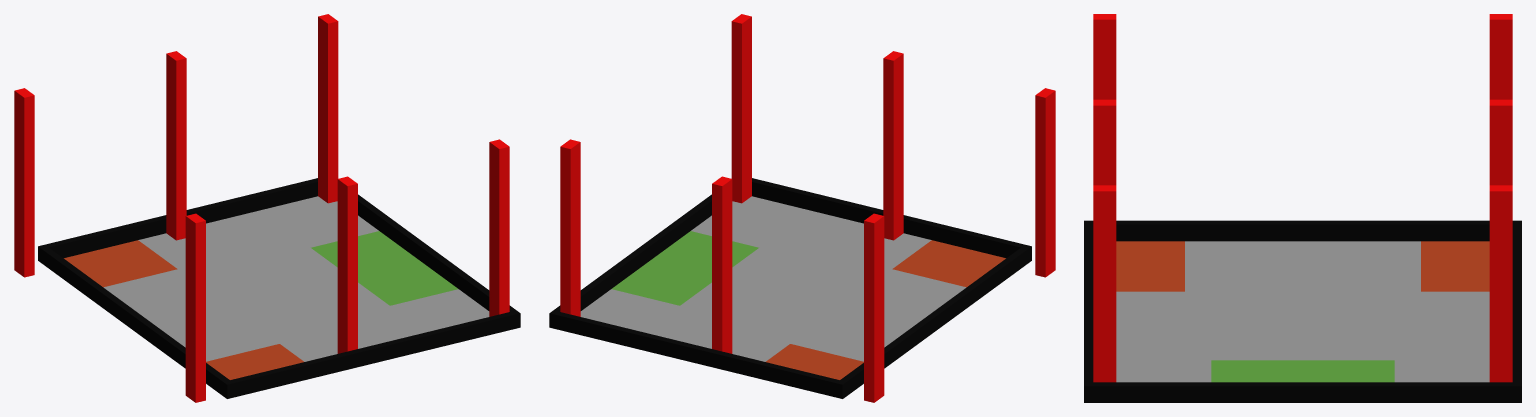
Rendered from test_field.dae.
3 views of the same model, side by side, from view 1: azimuth 30°, elevation 25°; view 2: azimuth 150°, elevation 25°; view 3: azimuth 270°, elevation 25° (orthographic). The views are drawn at different scales.
Parts seen in each view (by area): view 1: 65d6535c88c14f7ffcb6da8e (×15); view 2: 65d6535c88c14f7ffcb6da8e (×15); view 3: 65d6535c88c14f7ffcb6da8e (×15).
Boxes of the visible parts, left/top/right/bottom form: 65d6535c88c14f7ffcb6da8e (×15): left=14, top=14, right=520, bottom=402; 65d6535c88c14f7ffcb6da8e (×15): left=549, top=14, right=1055, bottom=402; 65d6535c88c14f7ffcb6da8e (×15): left=1084, top=14, right=1521, bottom=402.
Bounding box in the file's own units: 9.34 × 9.54 × 5.03.
